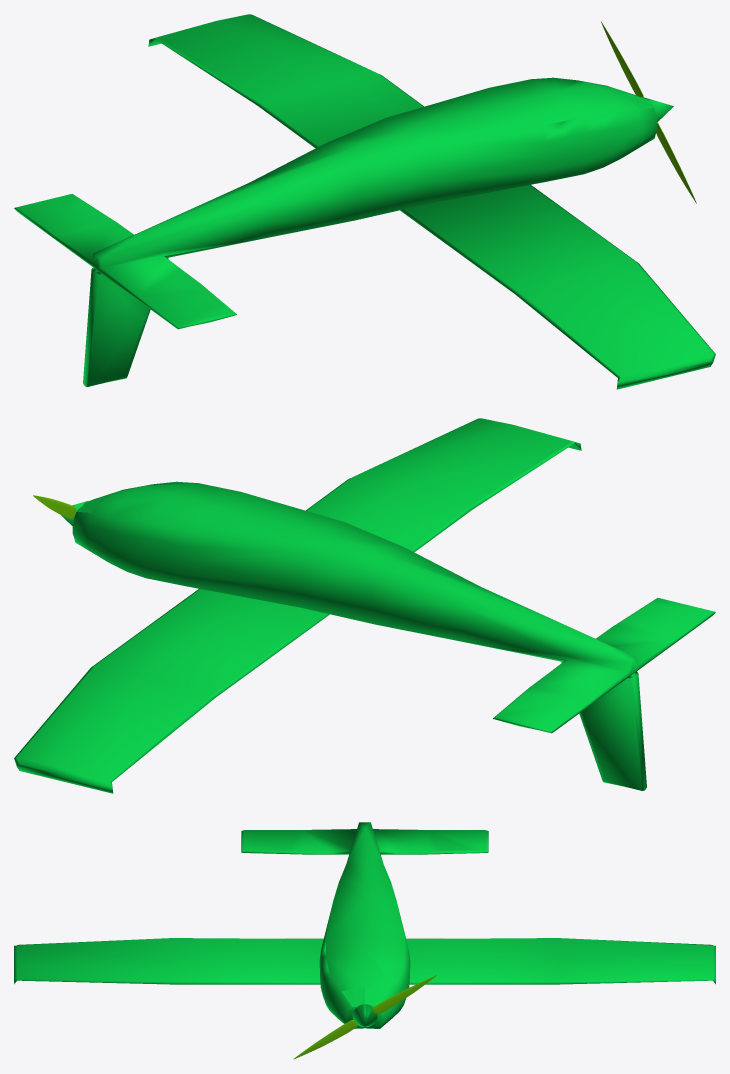
The model's file is miniplane_green.dae.
3 views of the same model, one above another, from view 1: azimuth 30°, elevation 25°; view 2: azimuth 150°, elevation 25°; view 3: azimuth 270°, elevation 25° (orthographic). The views are drawn at different scales.
Parts seen in each view (by area): view 1: Mesh, Mesh_001; view 2: Mesh; view 3: Mesh, Mesh_001.
Boxes of the visible parts, bbox=[...] form: Mesh: bbox=[14, 14, 715, 389]; Mesh_001: bbox=[601, 21, 696, 203]; Mesh: bbox=[14, 418, 715, 793]; Mesh: bbox=[14, 822, 715, 1028]; Mesh_001: bbox=[293, 975, 436, 1059].
Size of the model in its own units: 1.03 by 1.42 by 0.3247.
